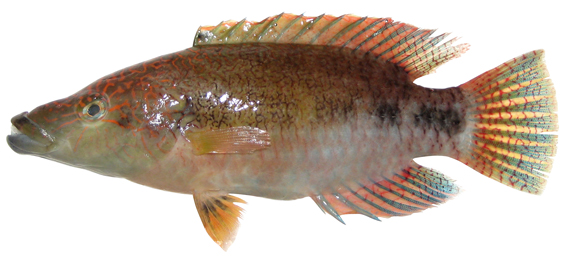fish: (7, 11, 560, 251)
